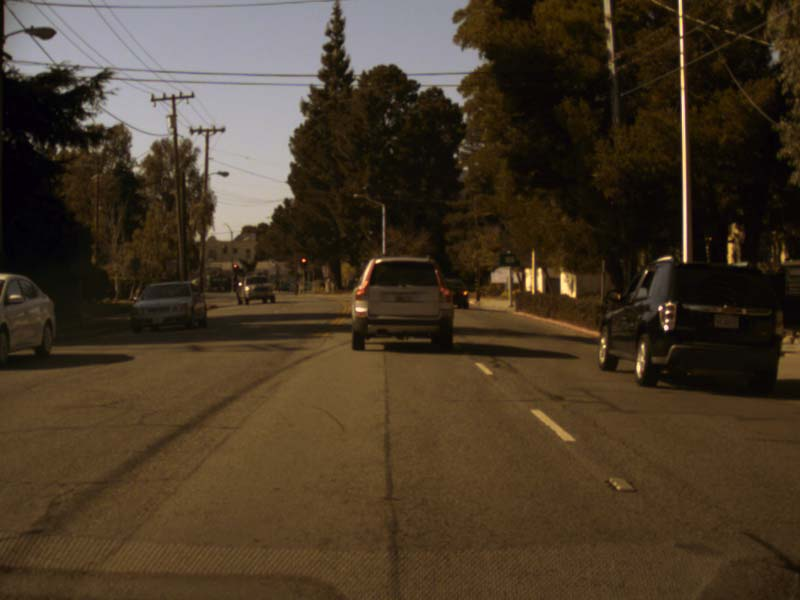Red: (300, 256, 305, 267), (232, 263, 237, 270)
